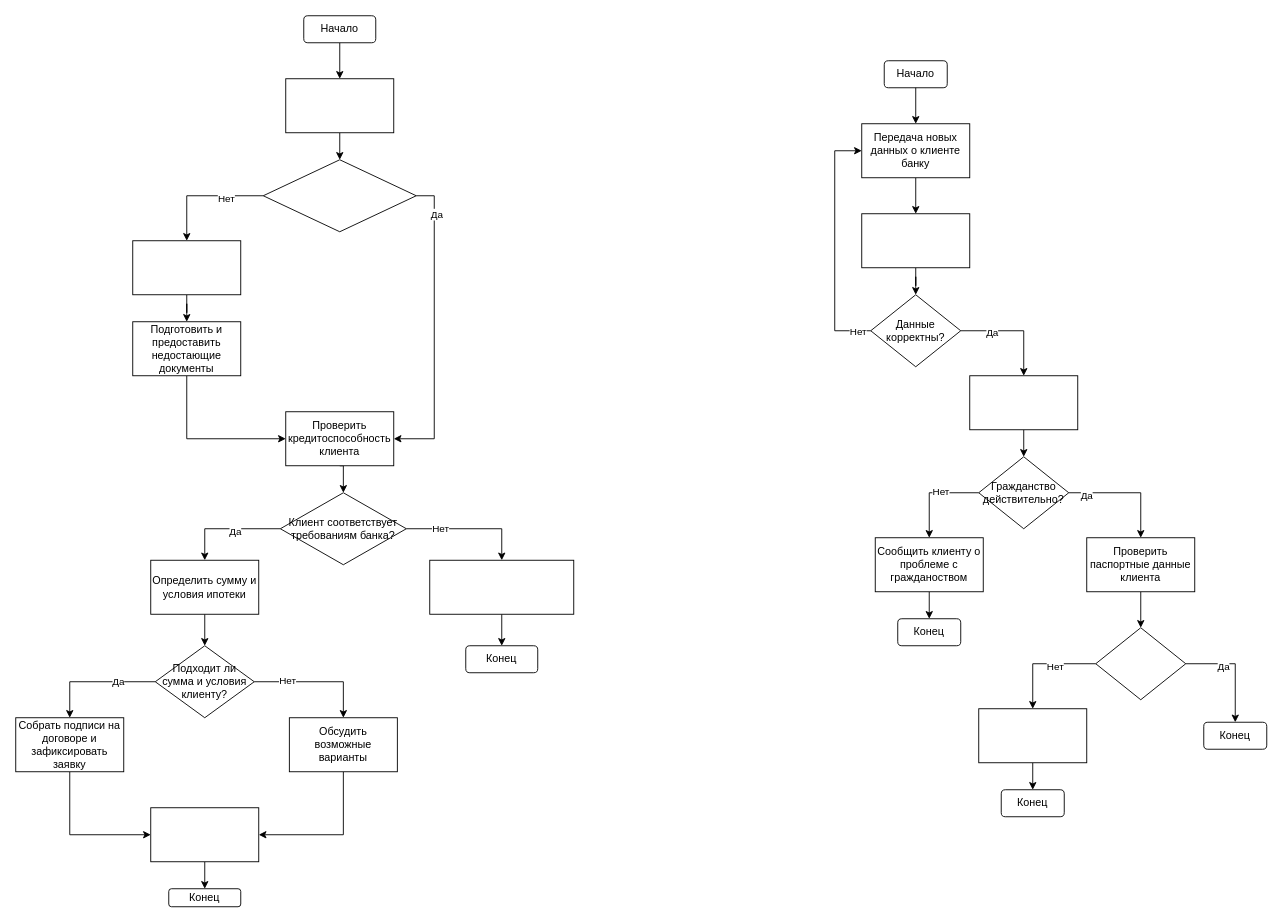
This 1283x923 diagram has some shape labels left out. Here are the shapes that lost their labels. From the top down, the box of each, then its label:
(285, 78, 394, 133): Обработать заявку клиента
(262, 159, 416, 232): Есть ли у клиента необходимые документы для ипотеки?
(861, 213, 970, 268): Обработать данные в заявлении
(132, 240, 241, 295): Узнать список недостающих документов
(969, 375, 1078, 430): Проверить гражданство клиента
(429, 559, 574, 614): Уведомить клиента о необходимости улучшить кредитную историю или увеличить доход
(1095, 627, 1186, 700): Паспортные данные действительны?
(978, 708, 1087, 763): Сообщить клиенту о проблеме с паспортными данными
(150, 807, 259, 862): Выдать ипотечный кредит
